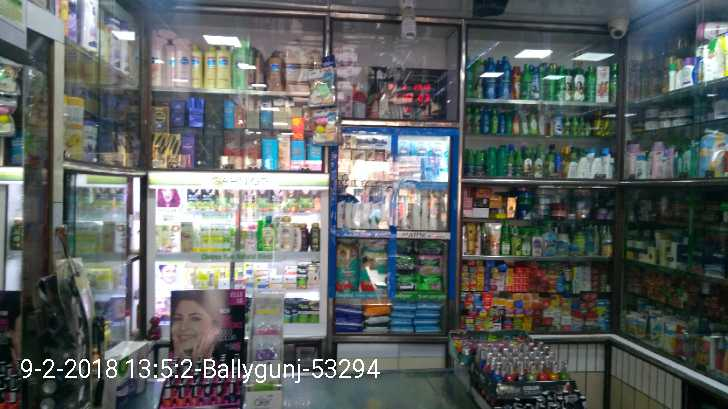venus: (431, 142, 448, 180), (415, 141, 431, 180), (397, 141, 415, 155)
